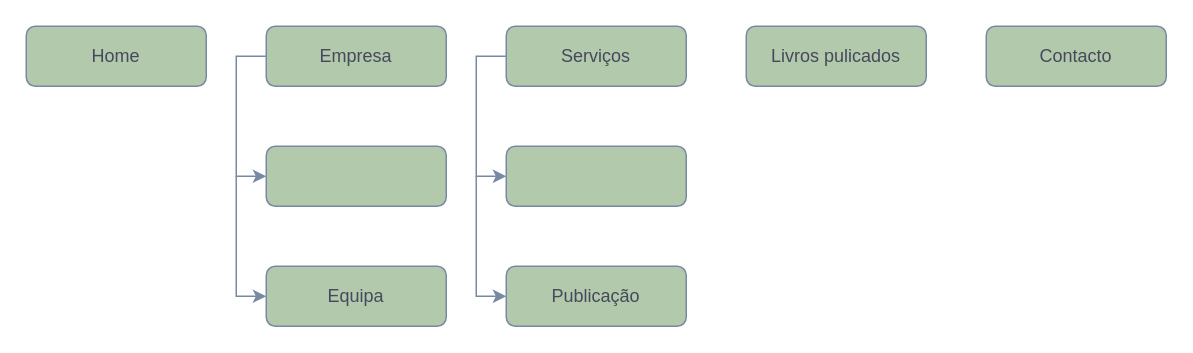
Some shapes in this 1193 by 353 pixel diagram are drawn without their labels. Here are the shapes that lost their labels. From the top down, the centre of each, then its label:
the point at 355,175: Sobre Nos
the point at 595,175: Impressão
